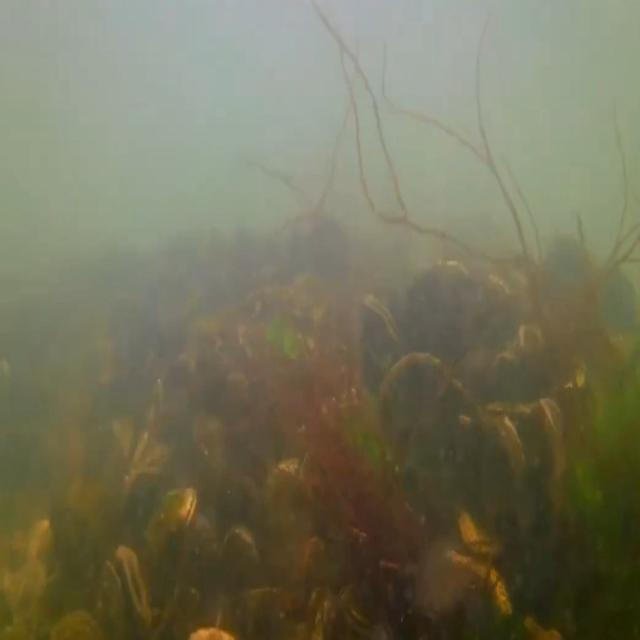Oyster-Closed: (360, 292, 403, 401), (143, 485, 197, 553)
Oyster-Indeterminate: (379, 352, 471, 459), (484, 397, 568, 488), (456, 413, 525, 500), (447, 548, 512, 618), (222, 524, 264, 618), (266, 454, 311, 517), (136, 376, 162, 479), (457, 509, 511, 554), (128, 442, 172, 489)
Oyster-Open: (98, 543, 153, 640), (306, 584, 336, 640)
